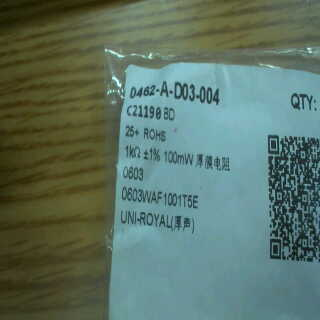1kR: (122, 141, 143, 166)
